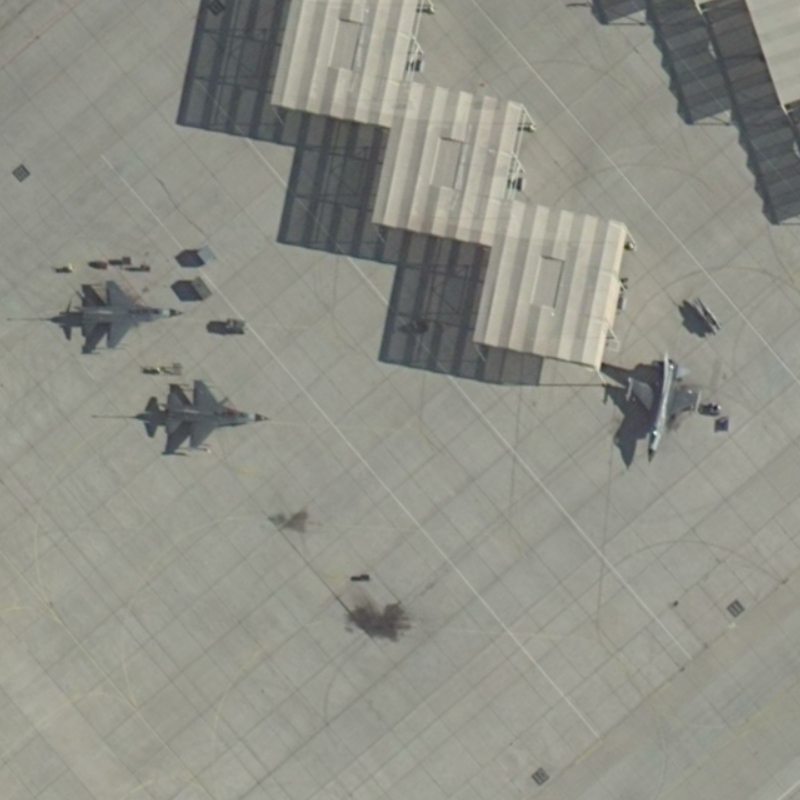A5: (617, 346, 705, 465), (76, 274, 189, 355), (161, 375, 275, 454)
